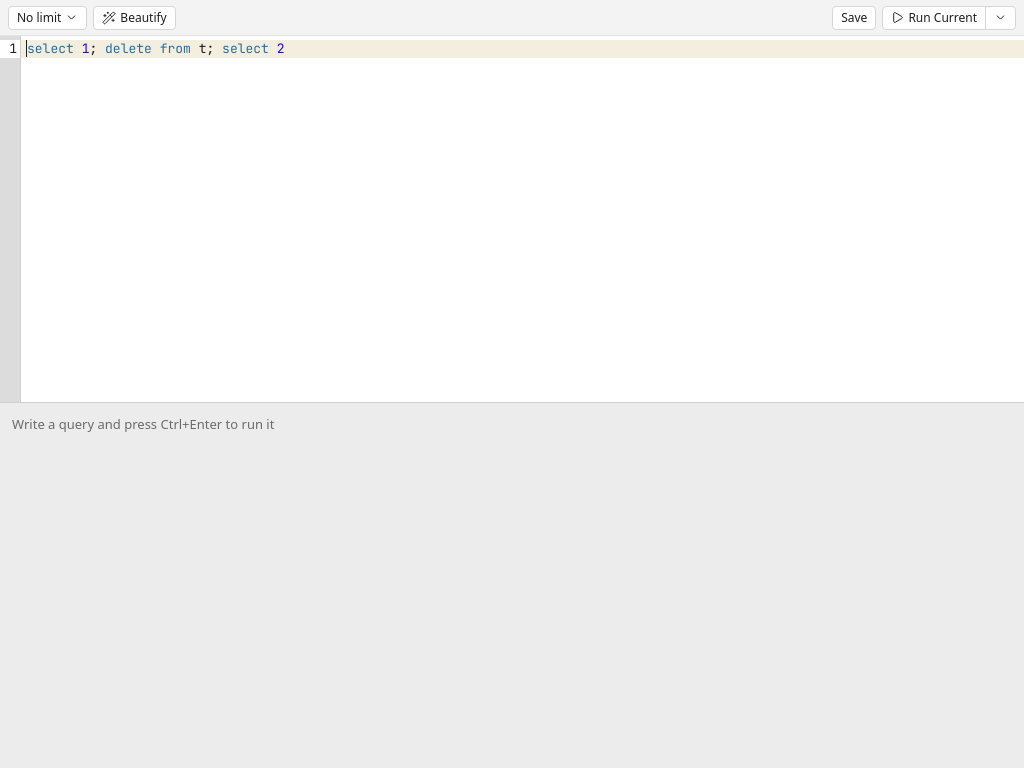
Scenario: safe mode confirmation › a refused batch opens the dialog listing every statement, flagged ones marked
Click the button named "More run options" at (1000, 18), box [985,6,1016,30]
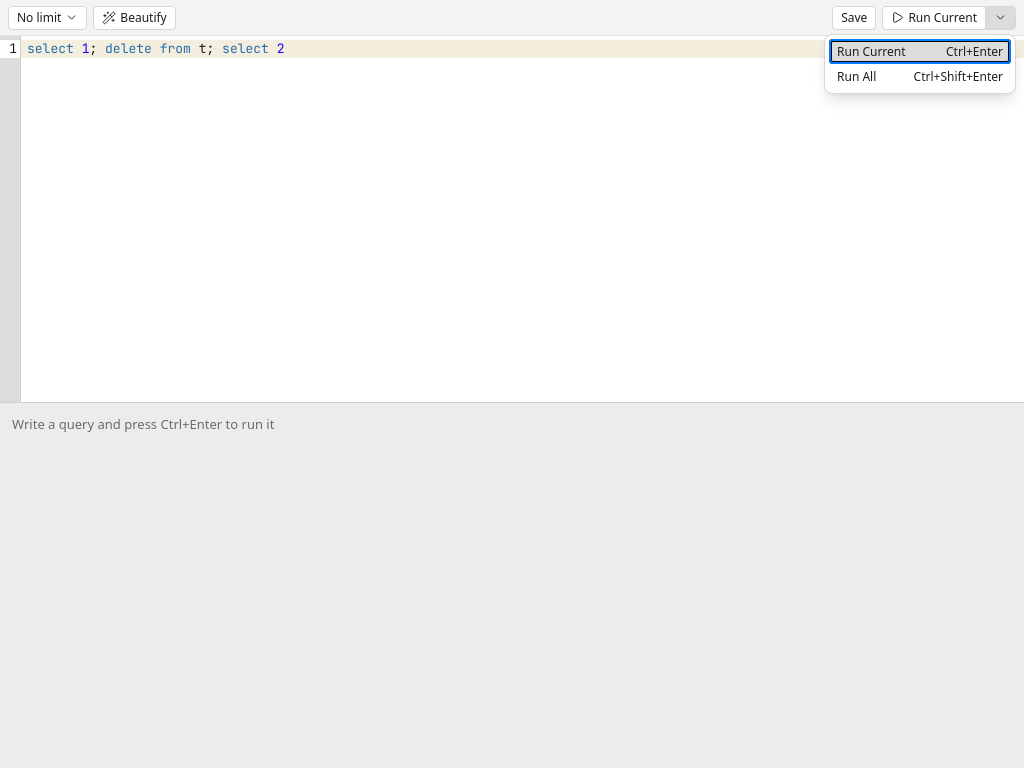
Click the menu item "Run All Ctrl+Shift+Enter" at (920, 76), box [829,64,1011,89]
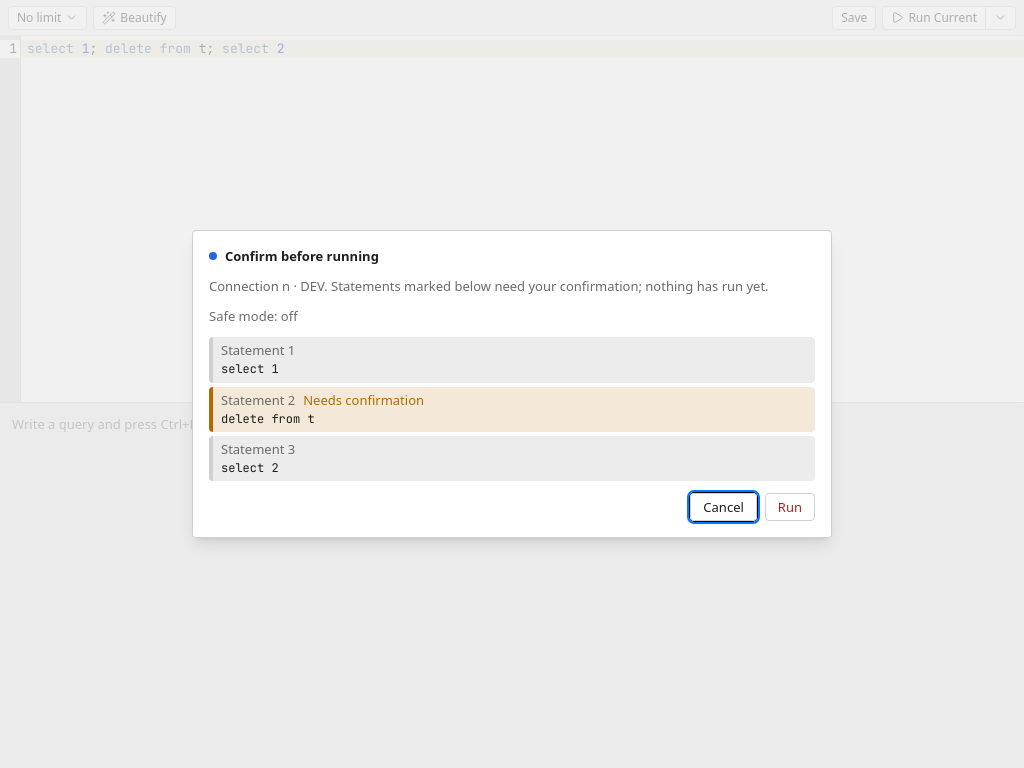
Expected: the dialog shows "n · DEV", [209,277,769,295]
Expected: the number of list items is 3, [209,337,815,382]; [209,386,815,432]; [209,436,815,481]
